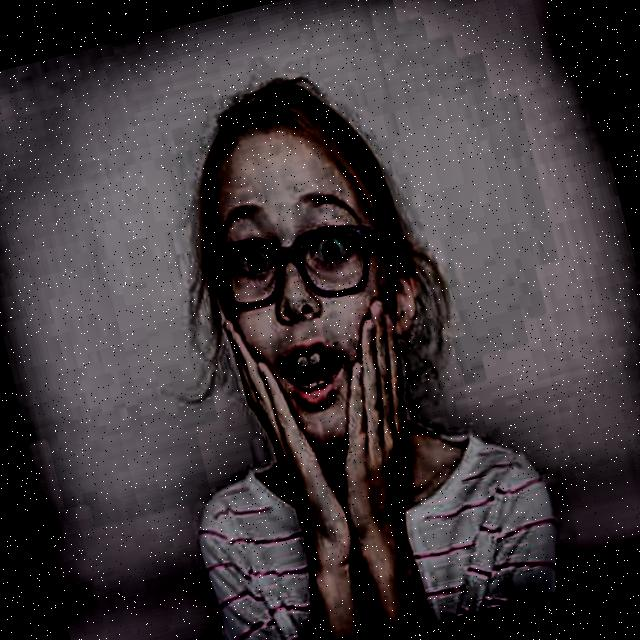surprised: (131, 31, 468, 480)
